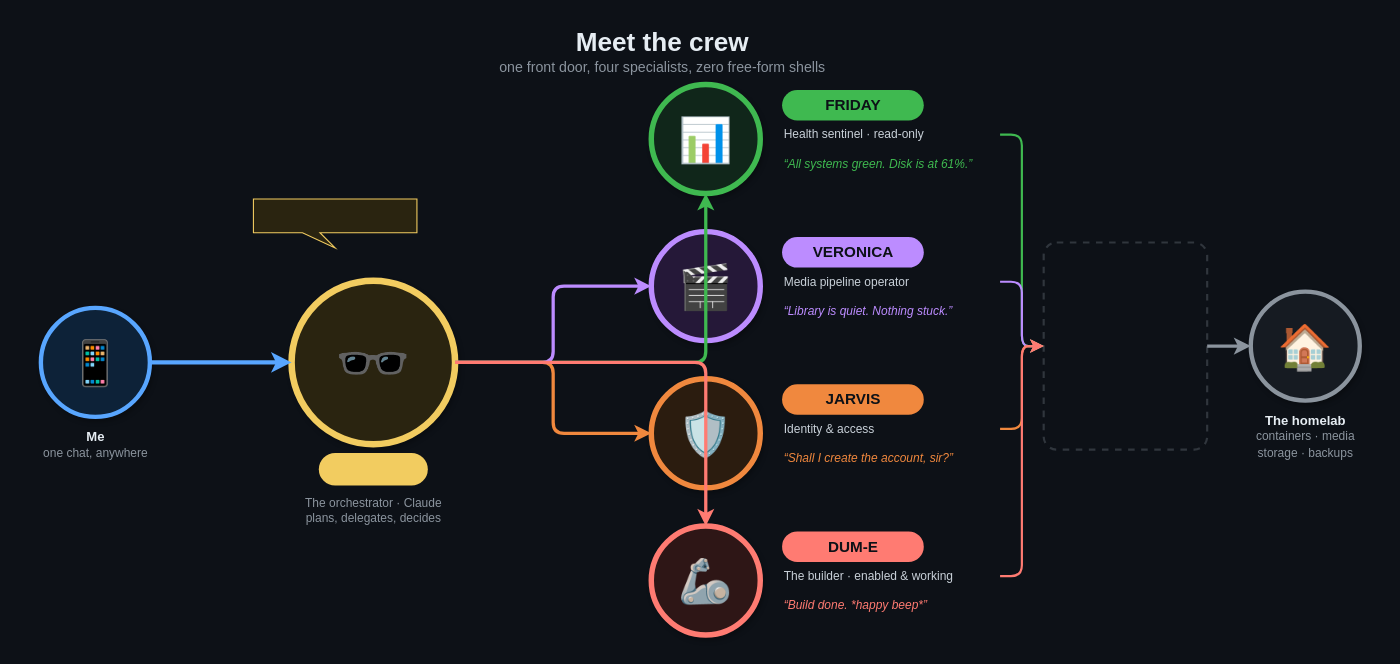
Some shapes in this 1400 by 664 pixel diagram are drawn without their labels. The centre of each missing label's shape, as x and y in pixels:
"EDITH" goes at (x=372, y=468).
"“On it. Asking FRIDAY.”" goes at (x=334, y=223).
"🔒 Safe toolbox approved commands only no free-form shell secrets never shown" goes at (x=1125, y=345).
